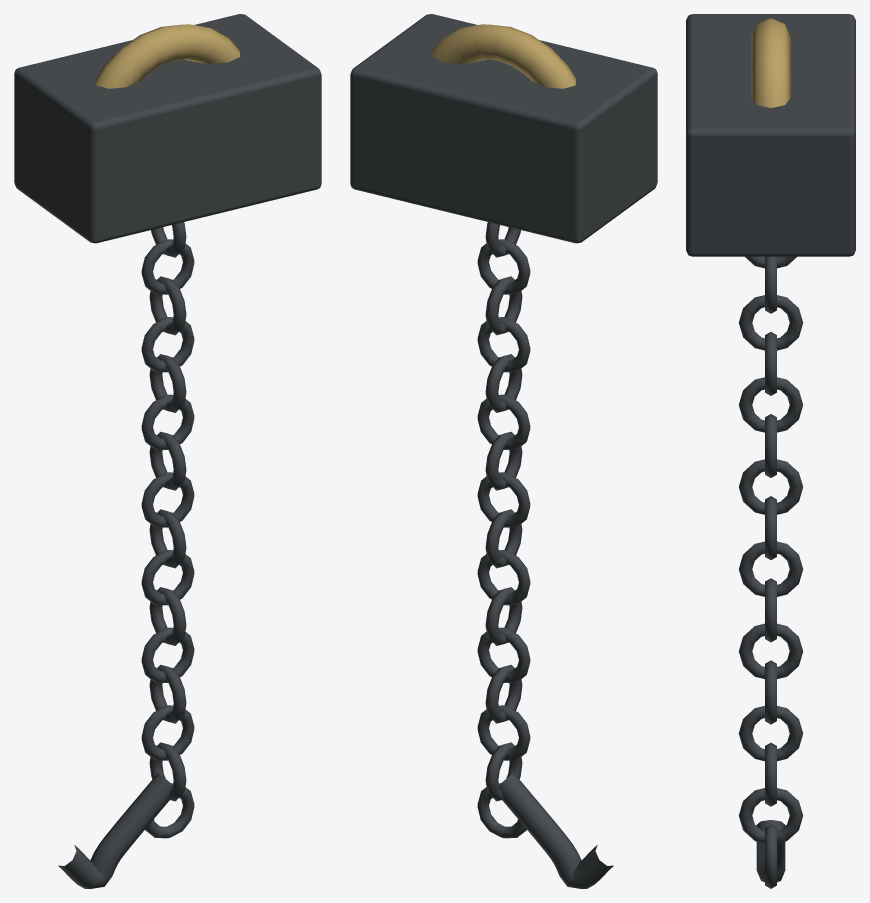
The model's file is undercity-sewers-and-thieves-den-chain-hoist-fd1f1da2__27205.glb.
3 renders of one model, left to right at view 1: azimuth 30°, elevation 25°; view 2: azimuth 150°, elevation 25°; view 3: azimuth 270°, elevation 25°, orthographic. The views are drawn at different scales.
Parts seen in each view (by area): view 1: chain-hoist; view 2: chain-hoist; view 3: chain-hoist.
Boxes of the visible parts, bbox=[...] form: chain-hoist: bbox=[14, 14, 321, 888]; chain-hoist: bbox=[350, 14, 657, 888]; chain-hoist: bbox=[686, 14, 855, 888].
Bounding box in the file's own units: 0.5 × 1.74 × 0.2999.
